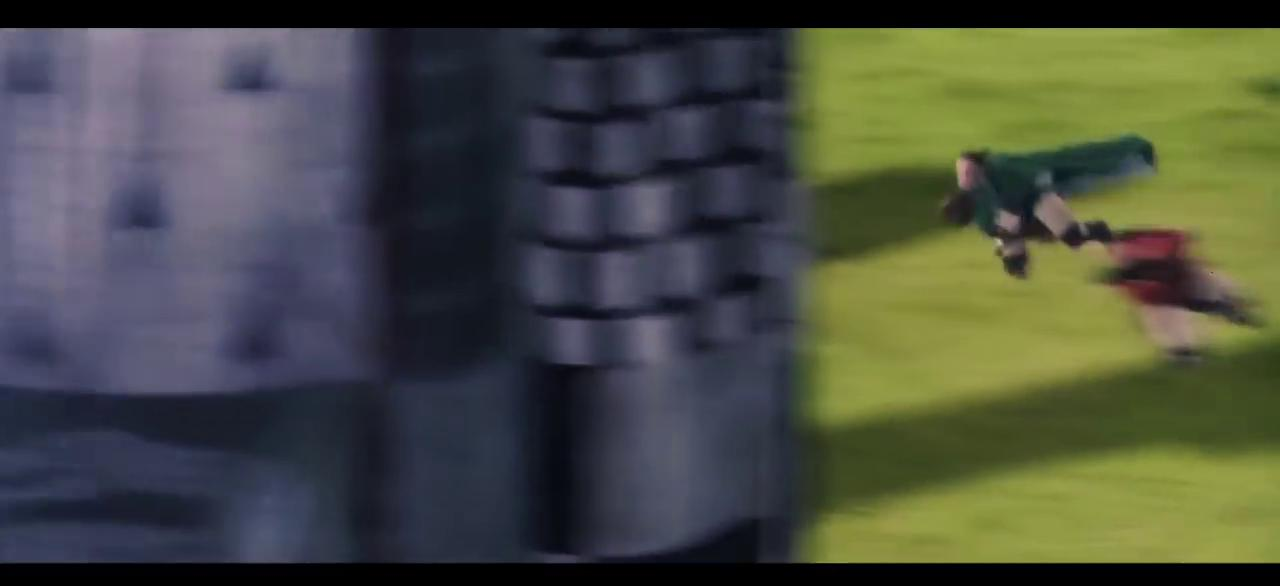quaffle: (938, 190, 975, 231)
